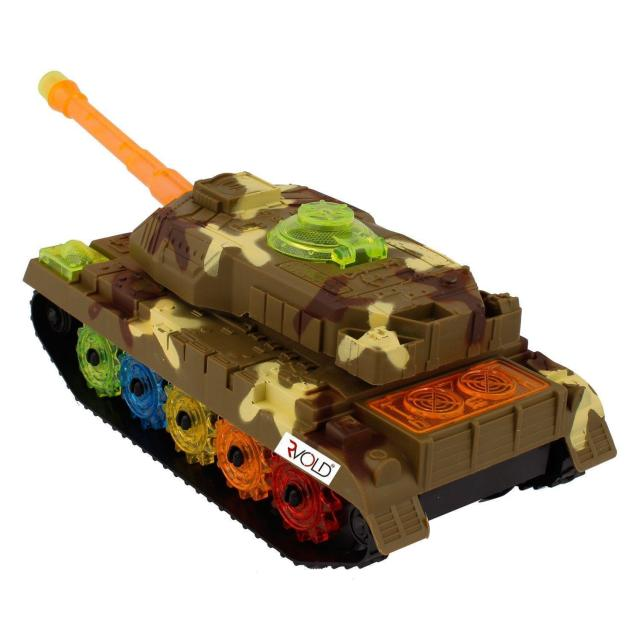Tanks: (24, 134, 618, 587)
